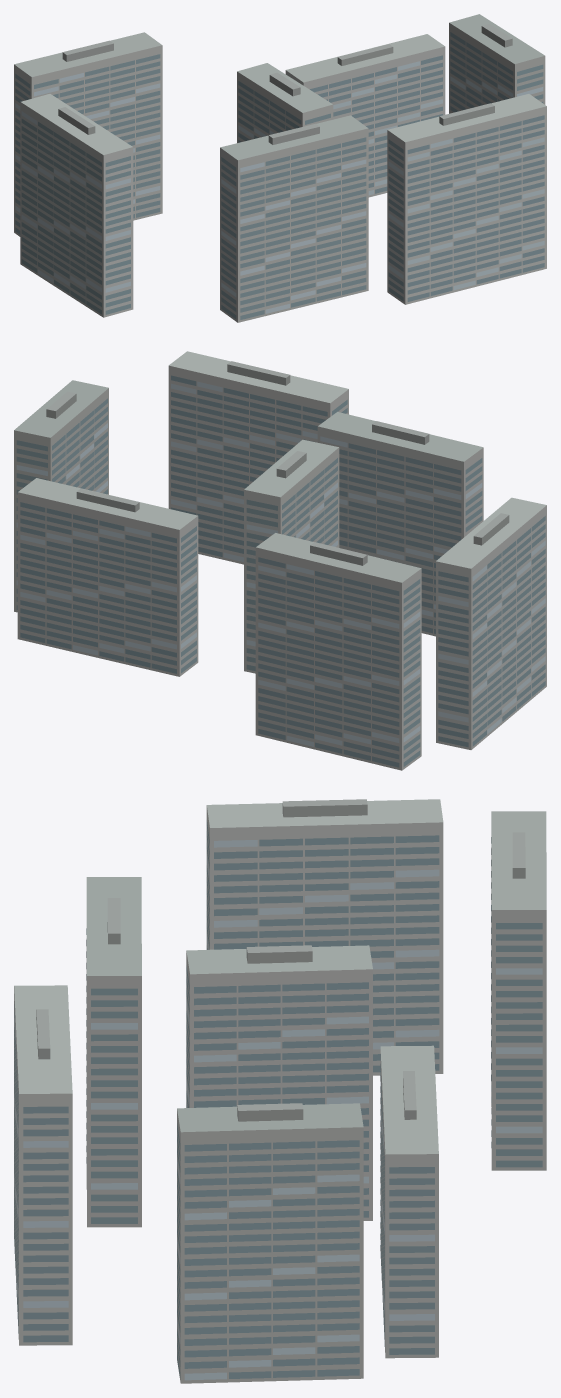
File: apt-a13086101.glb
3 views of the same model, one above another, from view 1: azimuth 30°, elevation 25°; view 2: azimuth 150°, elevation 25°; view 3: azimuth 270°, elevation 25° (orthographic). The views are drawn at different scales.
Visible parts, largest first — view 1: apt-a13086101; view 2: apt-a13086101; view 3: apt-a13086101.
Boxes of the visible parts, left/top/right/bottom form: apt-a13086101: left=14, top=14, right=546, bottom=322; apt-a13086101: left=14, top=351, right=546, bottom=770; apt-a13086101: left=14, top=799, right=546, bottom=1383.
Bounding box in the file's own units: 161 × 61 × 109.
